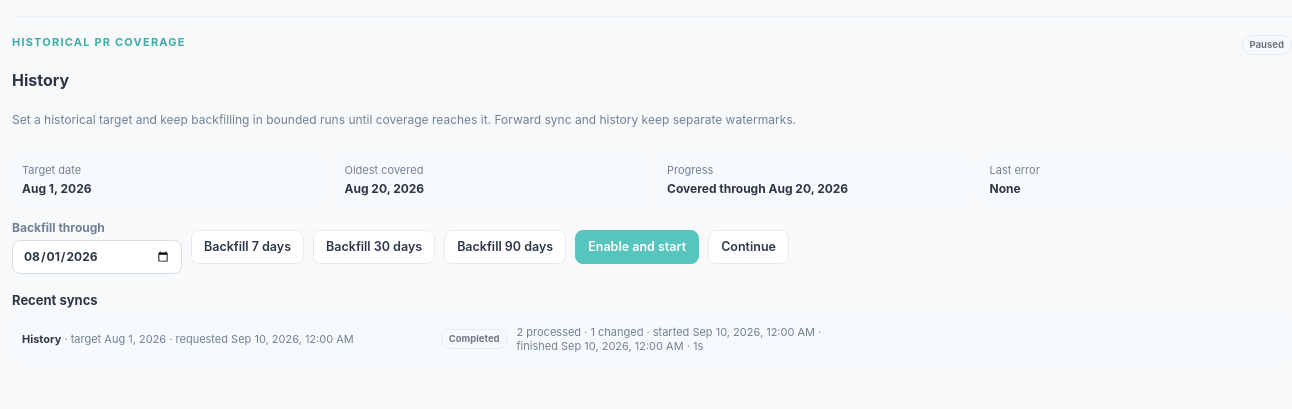
Test: sync history UI › continues a paused history run and polls only the accepted run
This screenshot has width=1292, height=409.
Expected: the heading "Recent syncs" is shown, [12,292,98,308]
Expected: the text "target Aug 1, 2026" is shown, [22,332,354,346]
Click the button "Continue" at (749, 246), box [708,230,789,264]
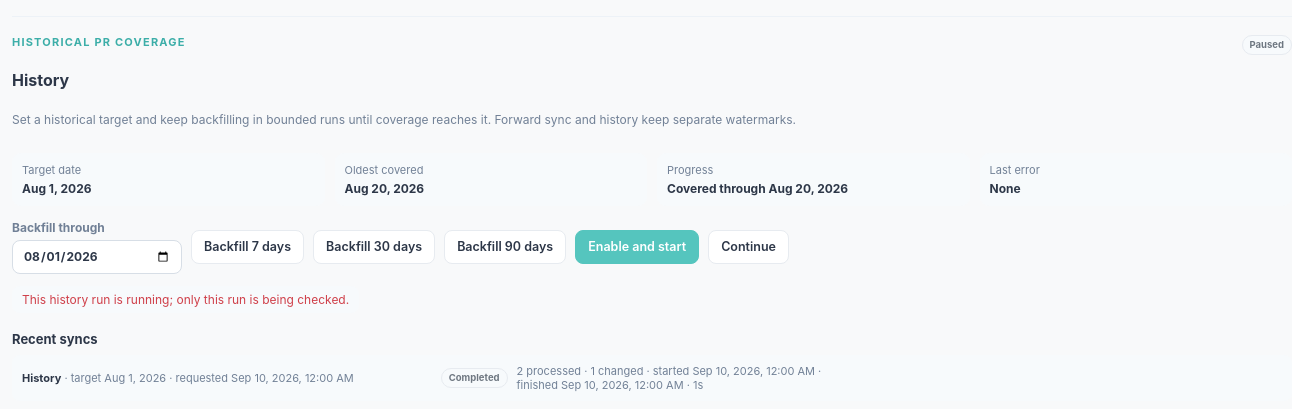
Expected: the text "This history run is running; only this run is being checked." is shown, [12,286,359,312]
